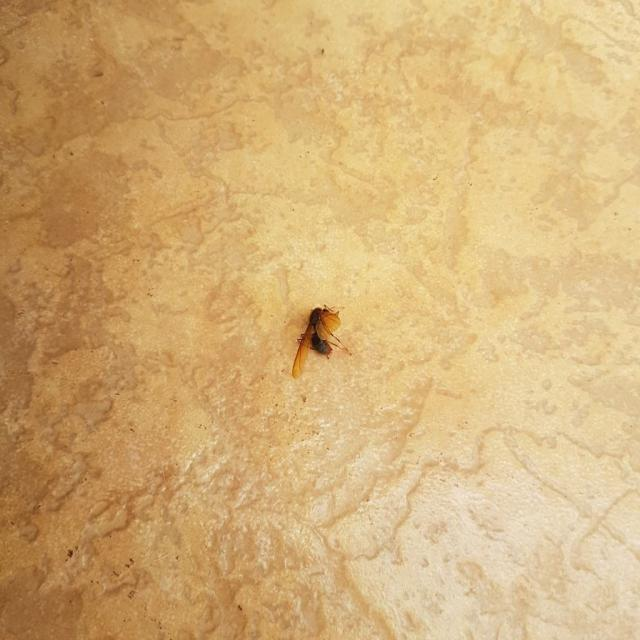Dead-Male-Alate: (291, 304, 353, 380)
